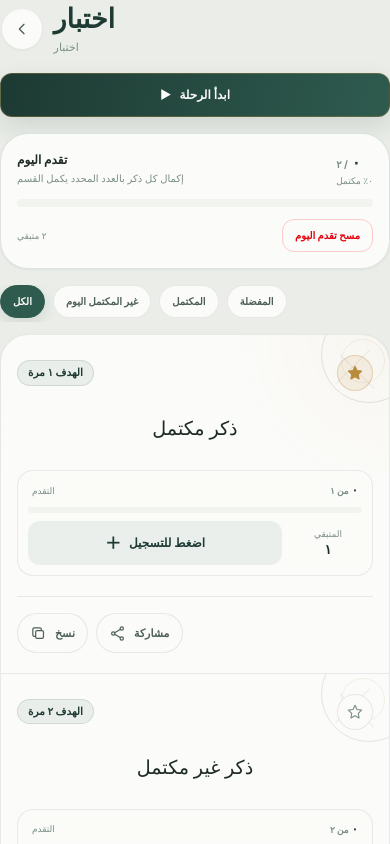
Test case: feature views › filters azkar by completion and favorites
Click the button with aria-label "تسجيل مرة من الذكر": (155, 543) [28,521,282,565]
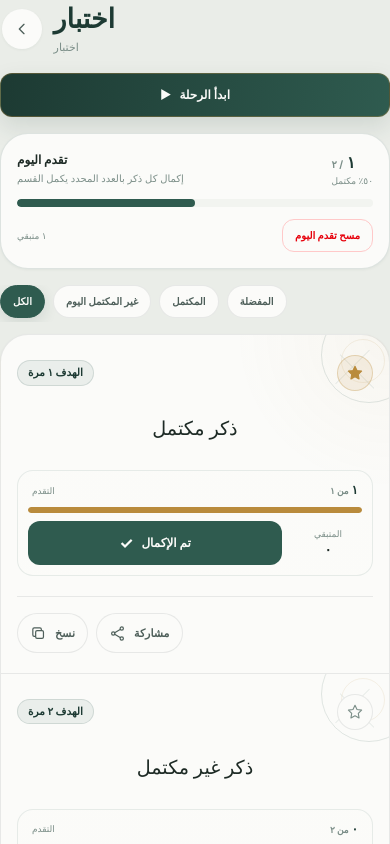
Click the button "المكتمل": (189, 302) [159,285,219,318]
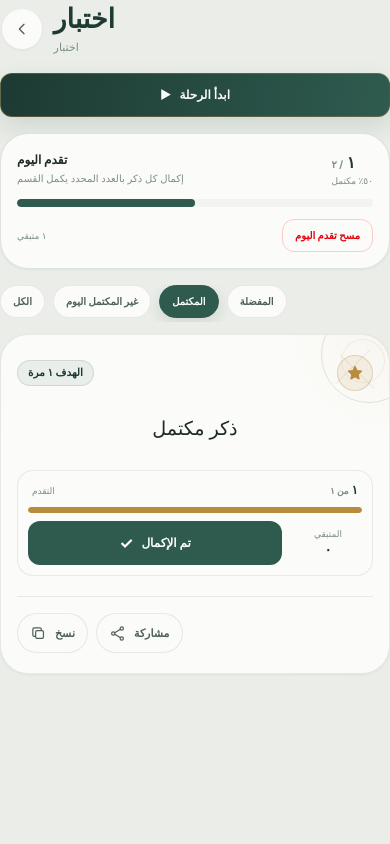
Expected: the text "ذكر مكتمل" is shown, [152,418,238,439]
Expected: the text "ذكر غير مكتمل" is gone
Click the button "غير المكتمل اليوم": (102, 302) [53,285,151,318]
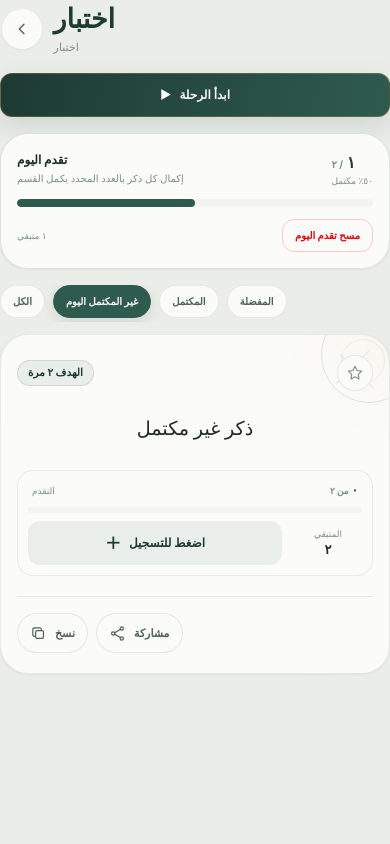
Expected: the text "ذكر غير مكتمل" is shown, [137,418,253,439]
Click the button "المفضلة": (257, 302) [227,285,287,318]
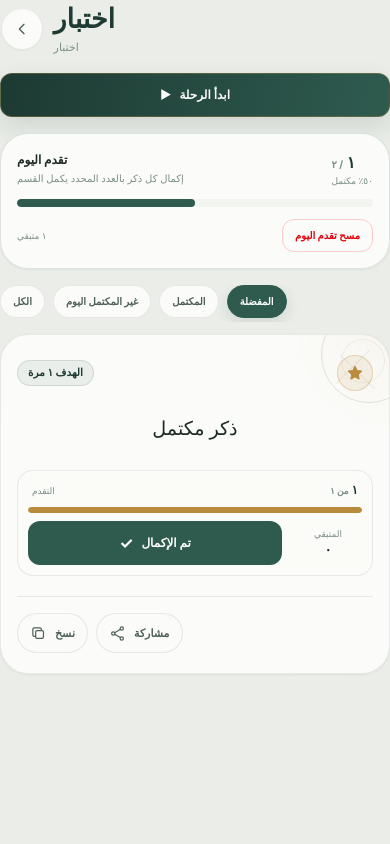
Expected: the text "ذكر مكتمل" is shown, [152,418,238,439]
Expected: the text "ذكر غير مكتمل" is gone
